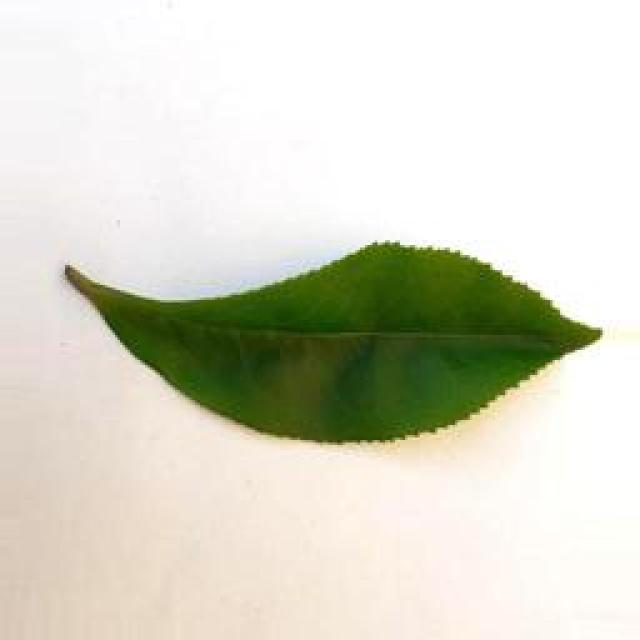Healthy: (54, 239, 616, 456)
